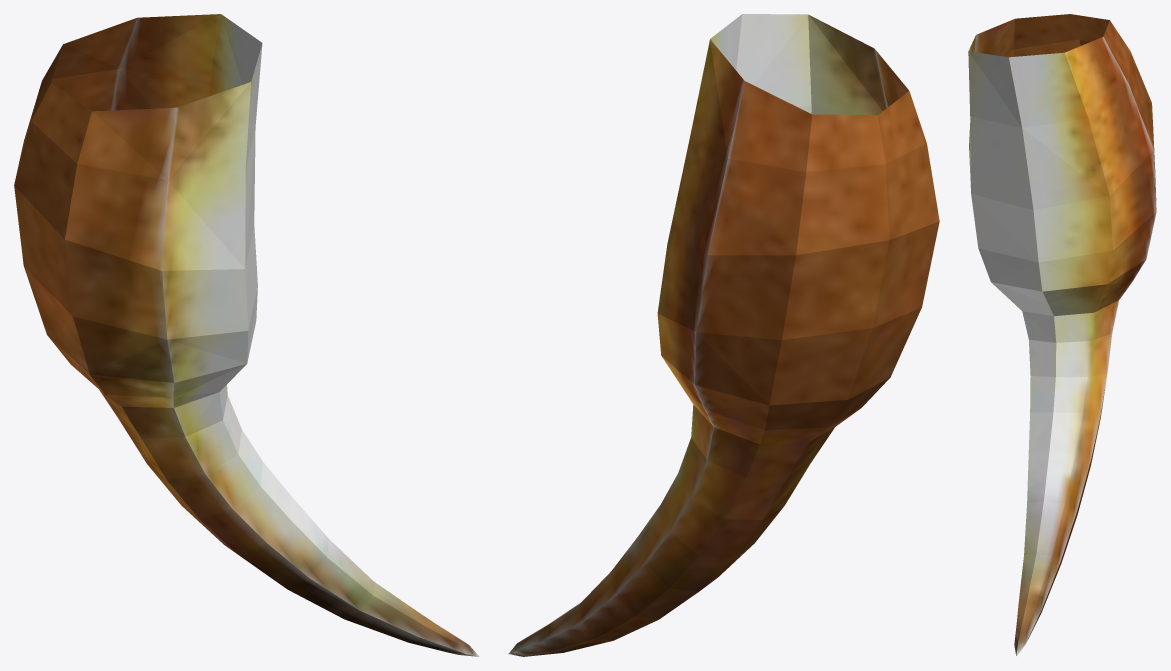
The model's file is CrabPie_4_Der.obj.
3 views of the same model, side by side, from view 1: azimuth 30°, elevation 25°; view 2: azimuth 150°, elevation 25°; view 3: azimuth 270°, elevation 25° (orthographic). The views are drawn at different scales.
Parts seen in each view (by area): view 1: CrabPie_4_Der:polySurface39; view 2: CrabPie_4_Der:polySurface39; view 3: CrabPie_4_Der:polySurface39.
Boxes of the visible parts, box(x1,y1,x2,y2) form: CrabPie_4_Der:polySurface39: box(14, 14, 479, 656); CrabPie_4_Der:polySurface39: box(508, 14, 939, 656); CrabPie_4_Der:polySurface39: box(968, 14, 1156, 656).
Size of the model in its own units: 0.2 by 0.3088 by 0.1015.
Materials: 1 (1 with a texture image).
